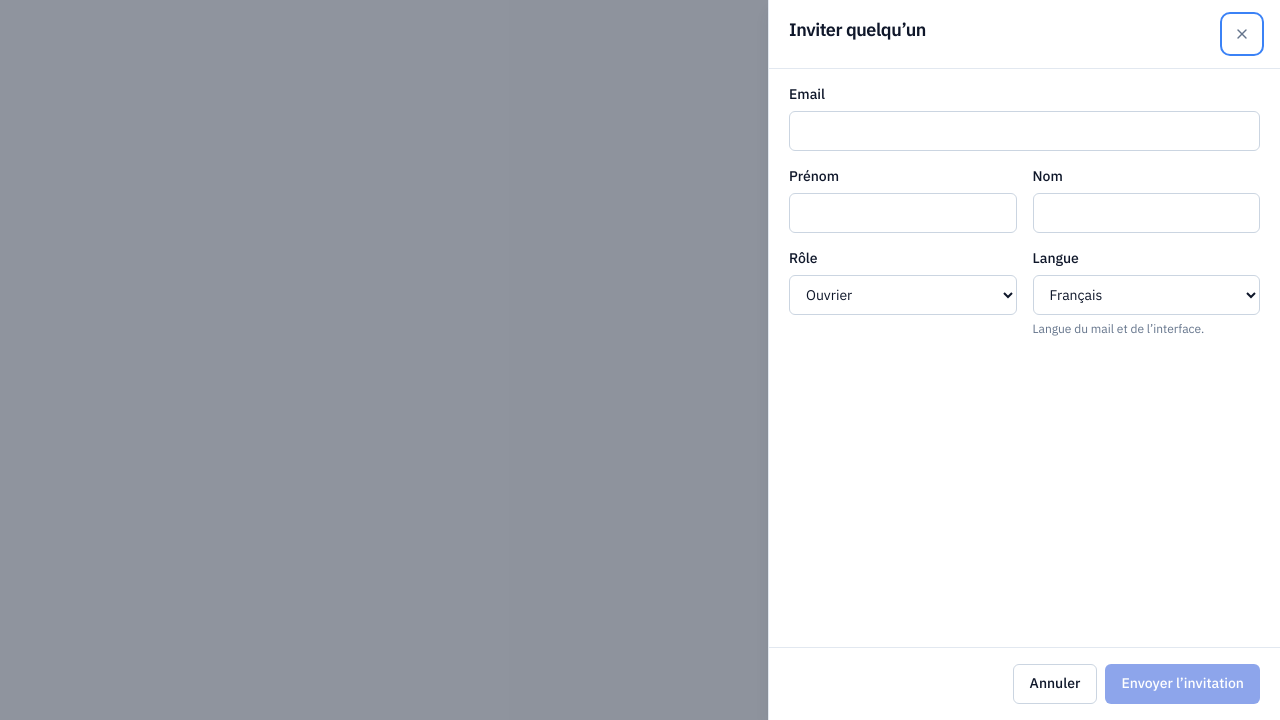
InviteDrawer › says the address is taken rather than "something went wrong"
In the field labelled "Email": (1024, 131) [789,111,1260,151], type "karim@exemple.fr"
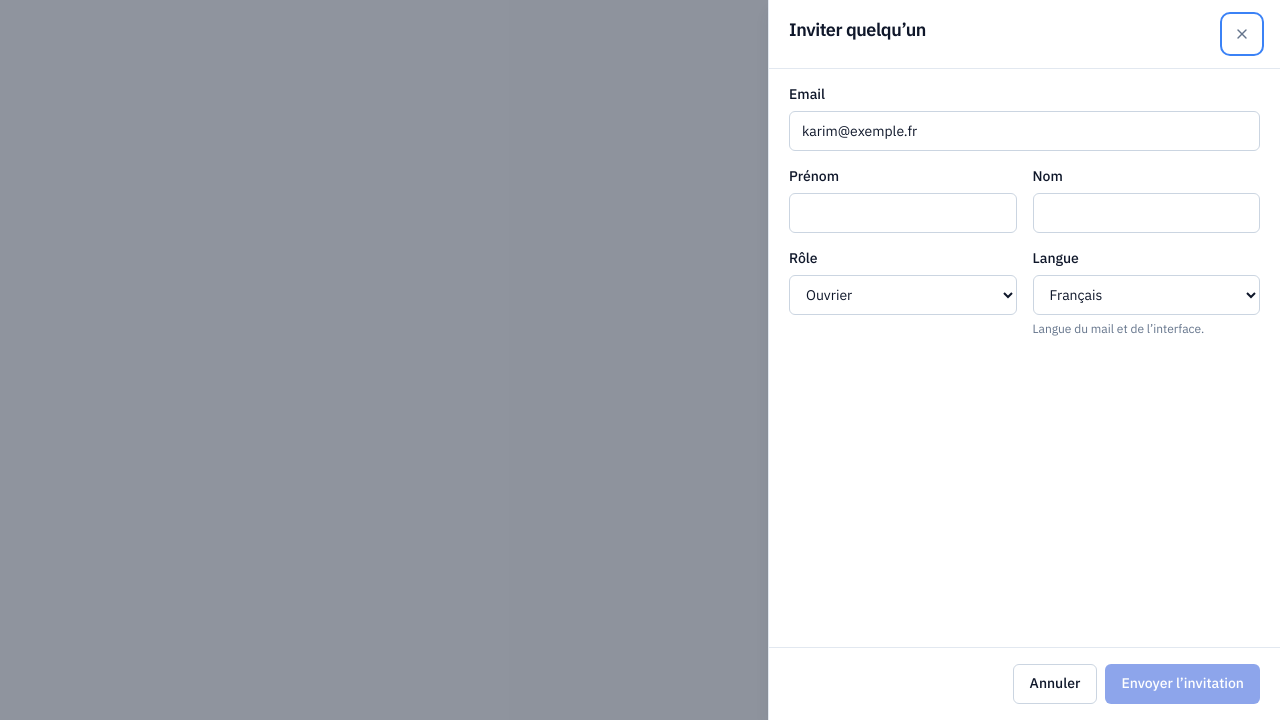
In the field labelled "Prénom": (903, 213) [789,193,1016,233], type "Karim"
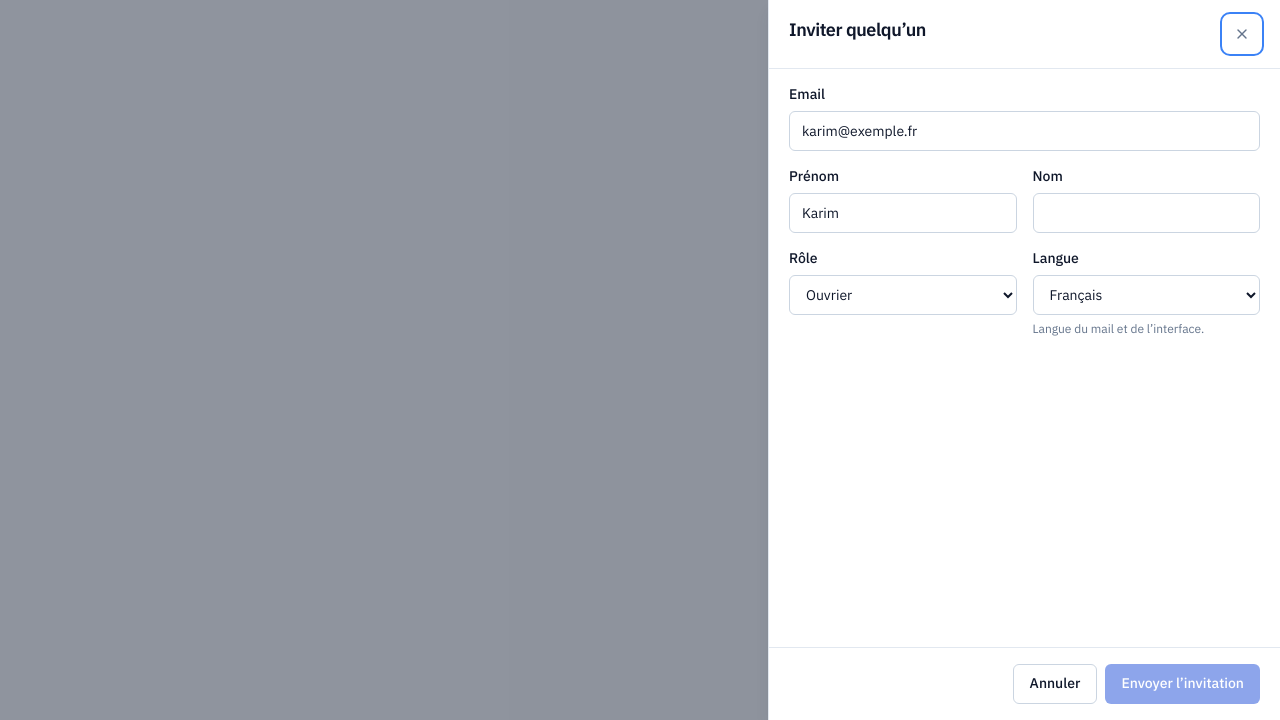
In the field labelled "Nom": (1146, 213) [1032,193,1260,233], type "Benali"
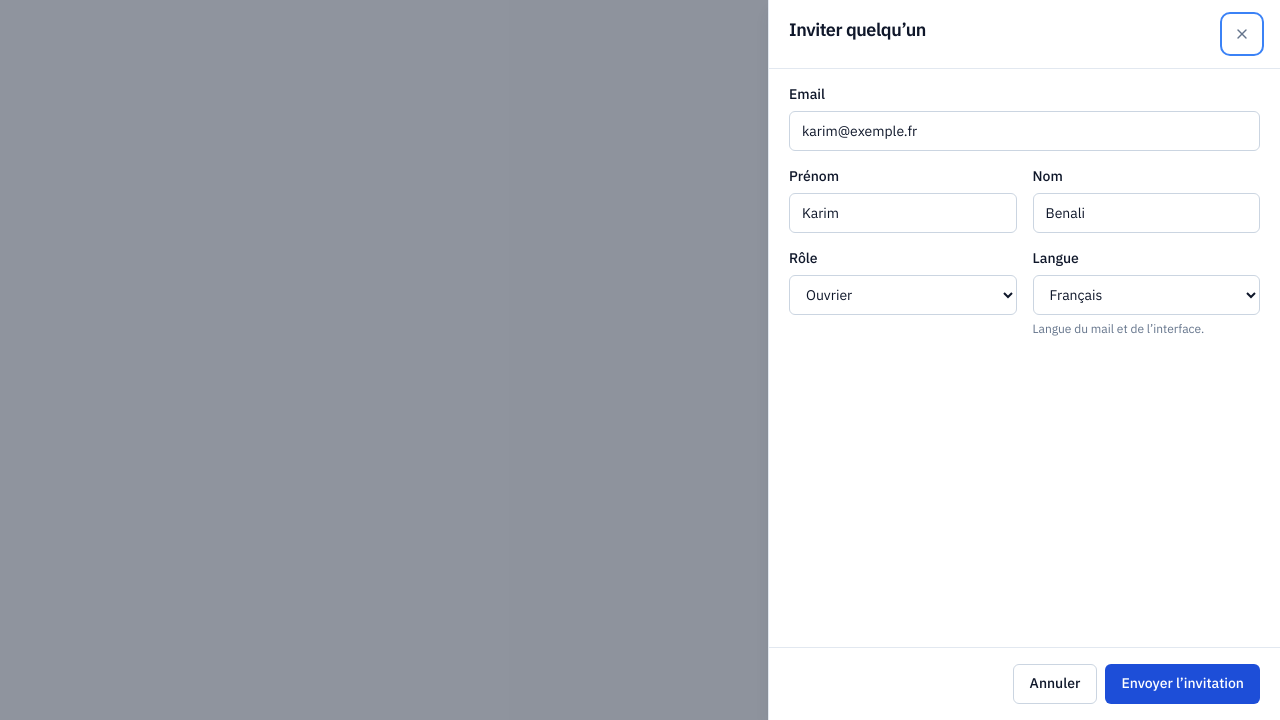
Click the button "Envoyer l’invitation": (1183, 684) [1105,664,1260,704]
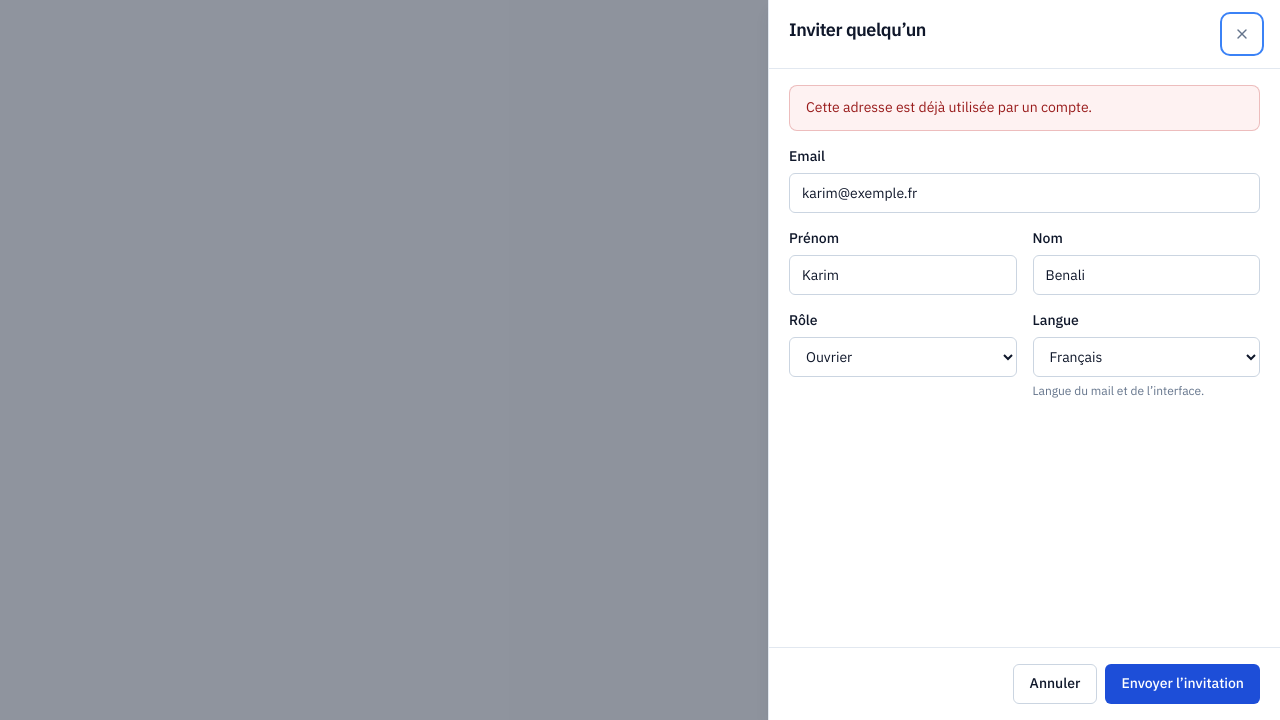
Check: the text "Cette adresse est déjà utilisée par un compte." is shown, box [789,85,1260,131]
